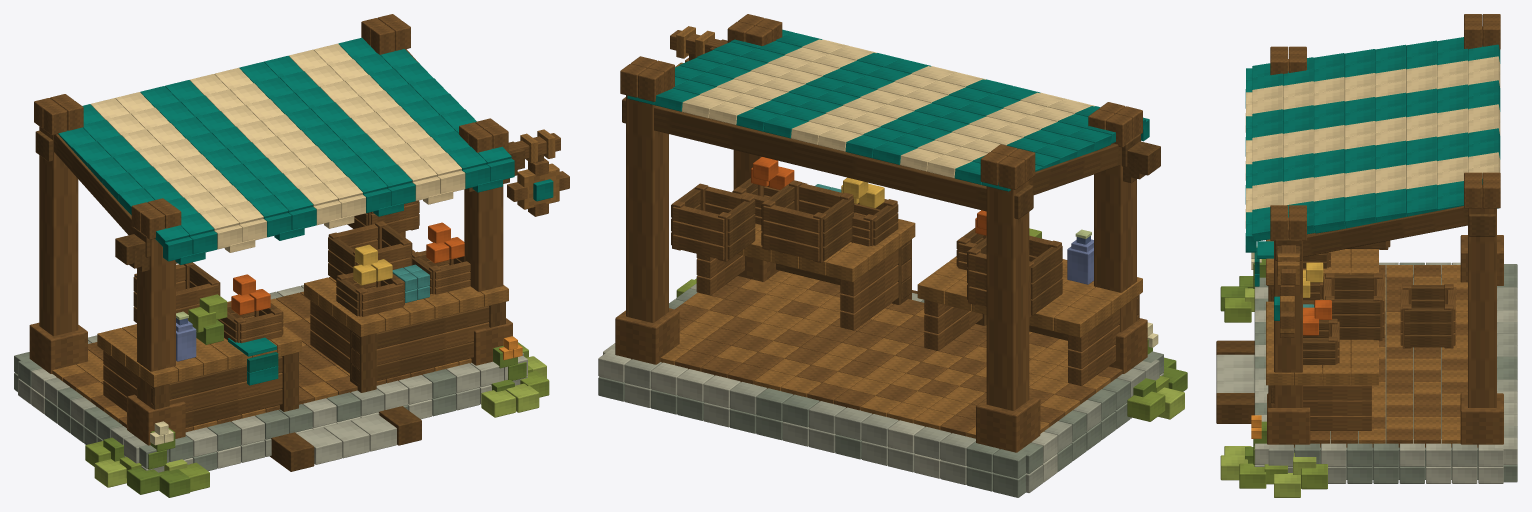
File: SM_Blender_MarketStall.glb
The picture shows the model from 3 angles, left to right: view 1: azimuth 30°, elevation 25°; view 2: azimuth 150°, elevation 25°; view 3: azimuth 270°, elevation 25°; orthographic projection. The views are drawn at different scales.
Visible parts, largest first — view 1: SM_Blender_MarketStall; view 2: SM_Blender_MarketStall; view 3: SM_Blender_MarketStall.
Part boxes in pixels (bbox=[...]): SM_Blender_MarketStall: bbox=[14, 14, 569, 497]; SM_Blender_MarketStall: bbox=[598, 14, 1187, 497]; SM_Blender_MarketStall: bbox=[1216, 14, 1517, 497].
Size of the model in its own units: 4.32 by 2.61 by 2.44.
Materials: 1 (1 with a texture image).
